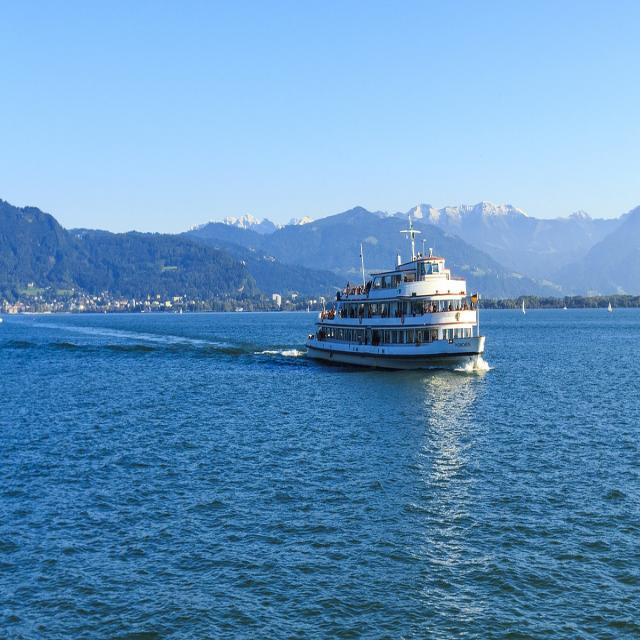ship: (307, 228, 484, 370)
